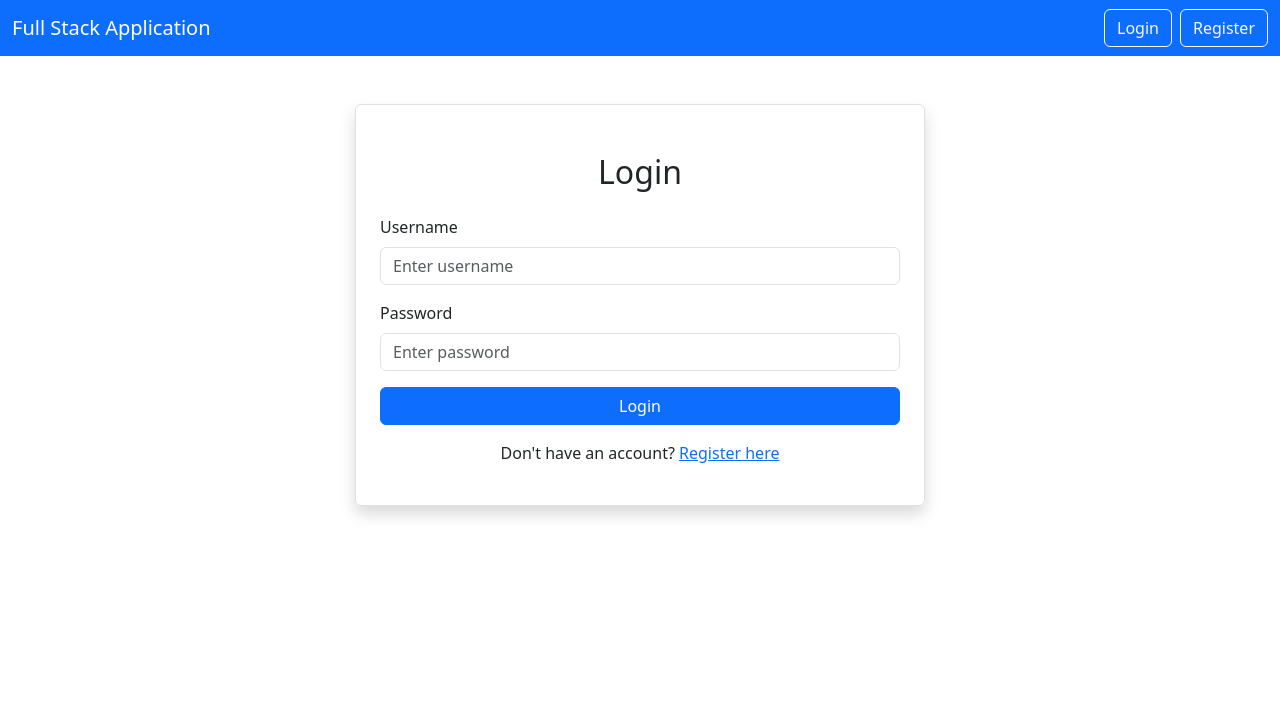
Test: Login Flow Automated Tests › a) Complete Login Flow Tests › TC_LOGIN_01: Should complete successful login flow
Click the link "Login" at coordinates (1138, 28), box [1104, 9, 1172, 47]
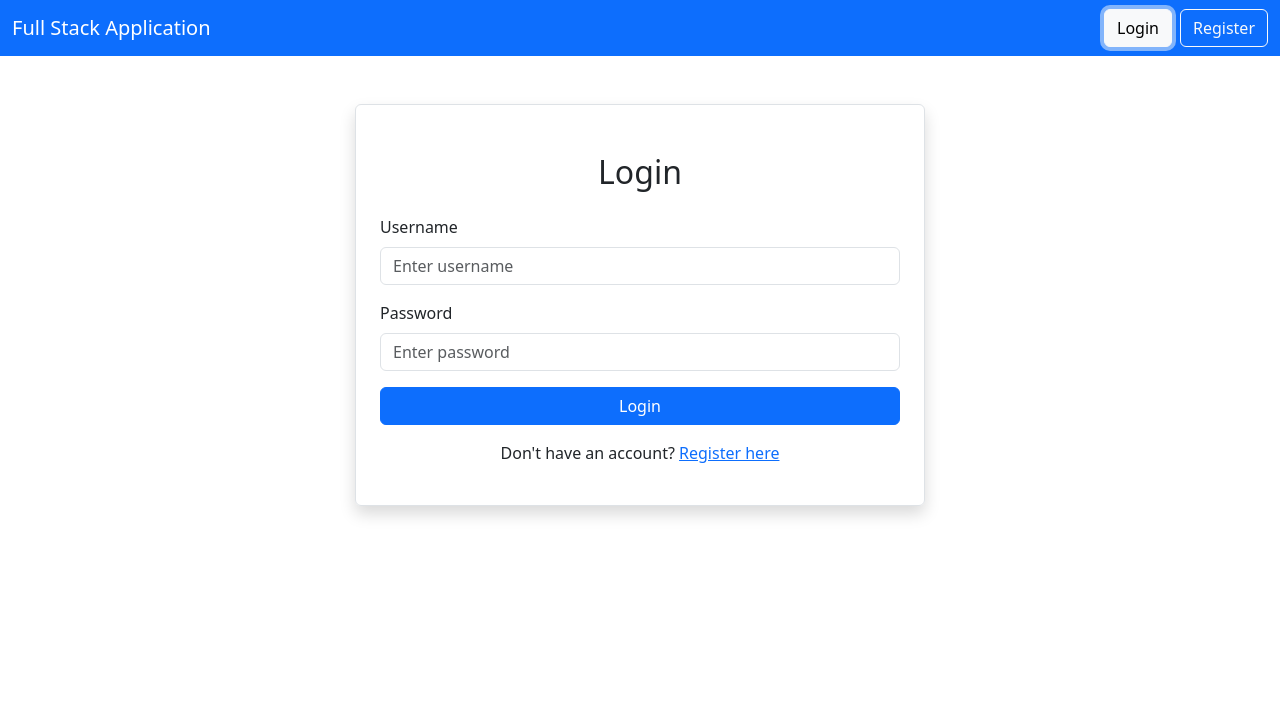
Expected: the heading "Login" is shown, [598, 150, 682, 193]
Expected: the password field named "password" is shown, [380, 333, 900, 371]
Type "testuser123" into the field named "username" at coordinates (640, 266), box [380, 247, 900, 285]
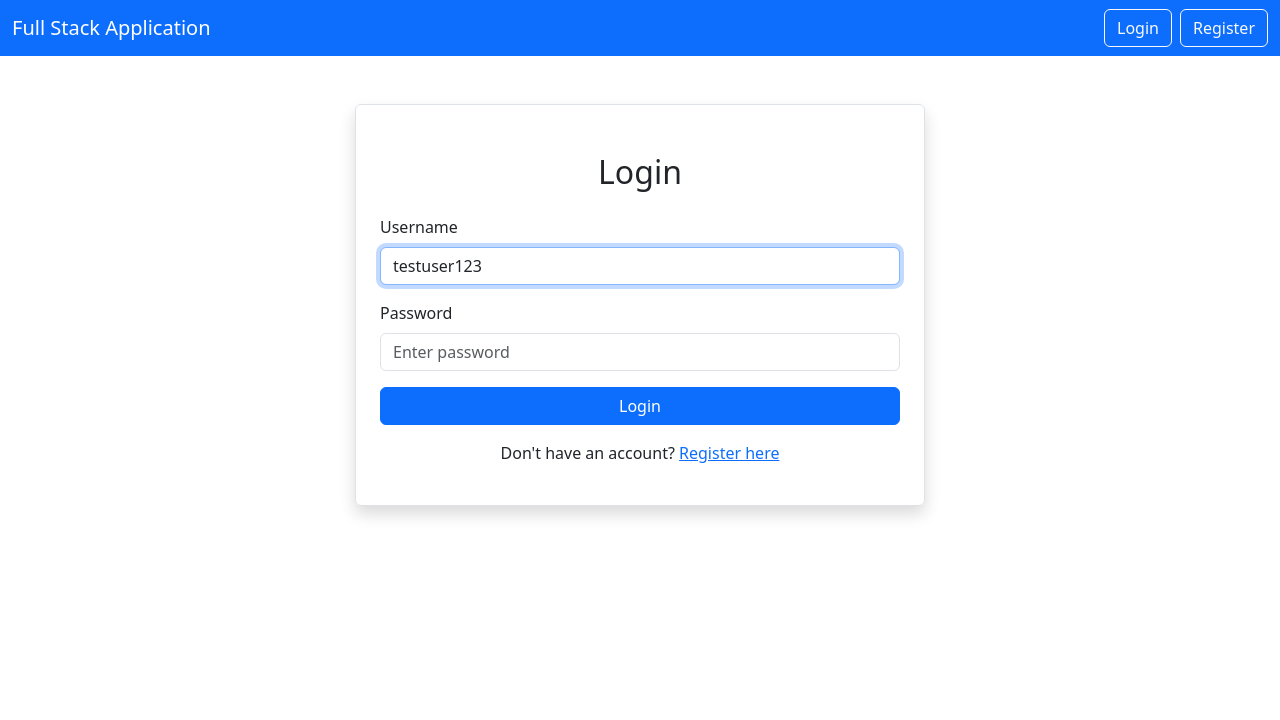
Type "password123" into the password field named "password" at coordinates (640, 352), box [380, 333, 900, 371]
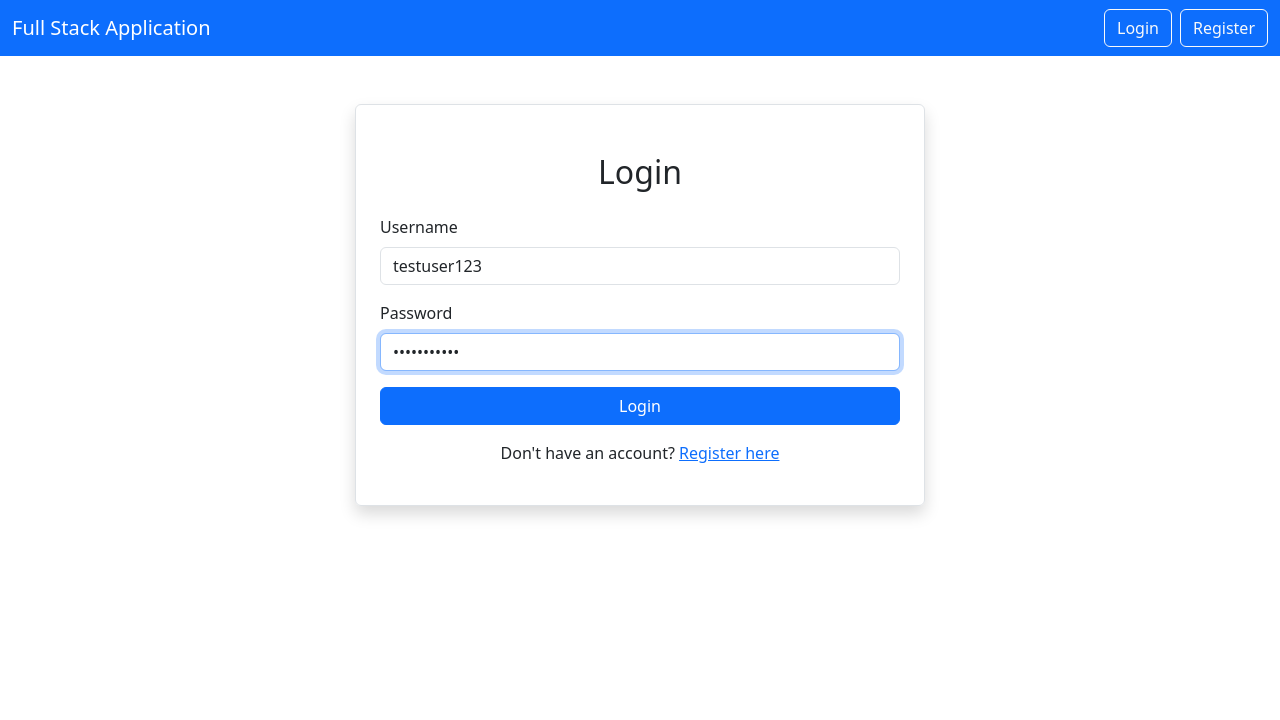
Click the submit button at coordinates (640, 406), box [380, 387, 900, 425]
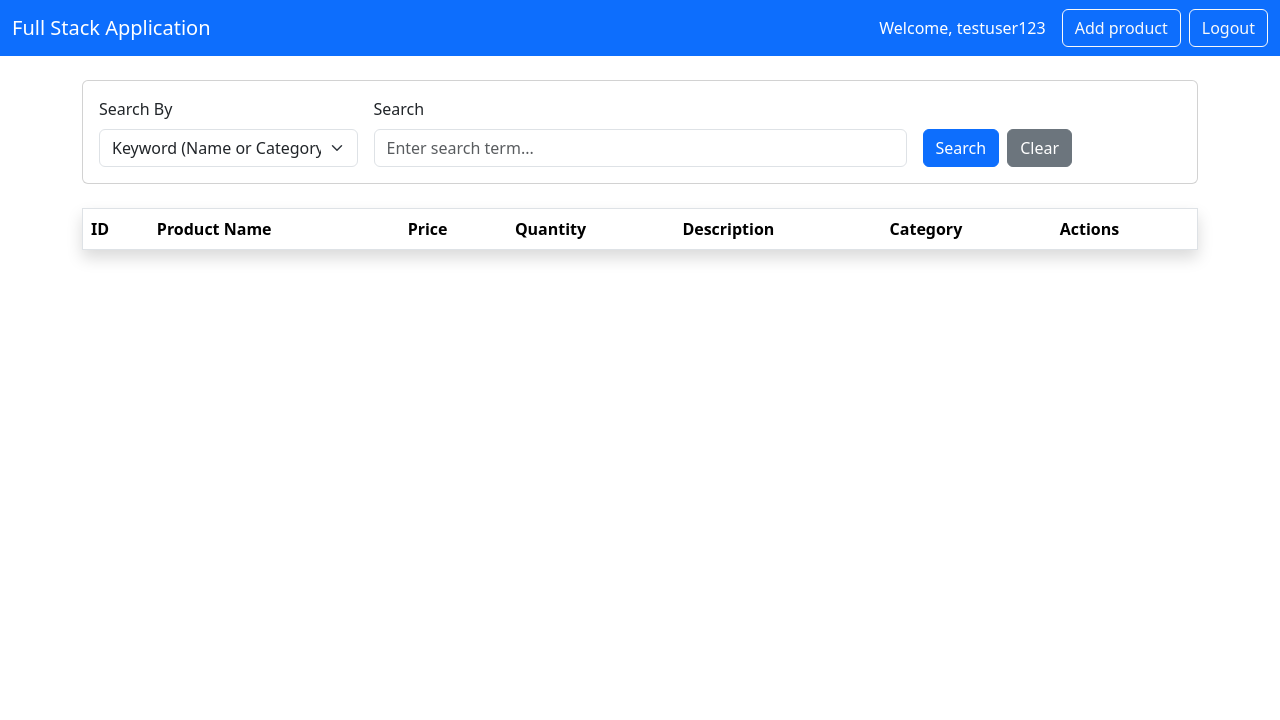
Expected: the button "Logout" is shown, [1189, 9, 1268, 47]
